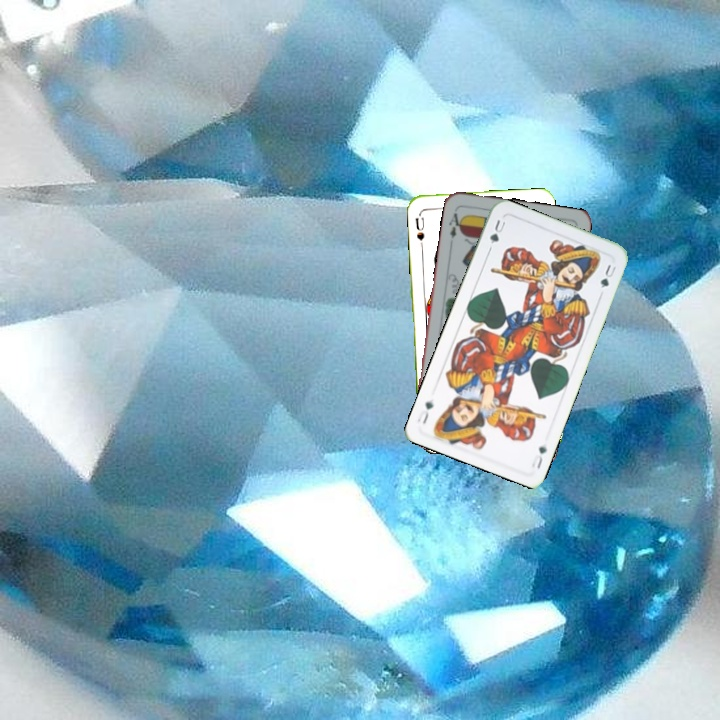EA: (444, 205, 466, 246)
GU: (485, 216, 508, 252), (528, 442, 549, 472)
SU: (412, 208, 427, 243)
